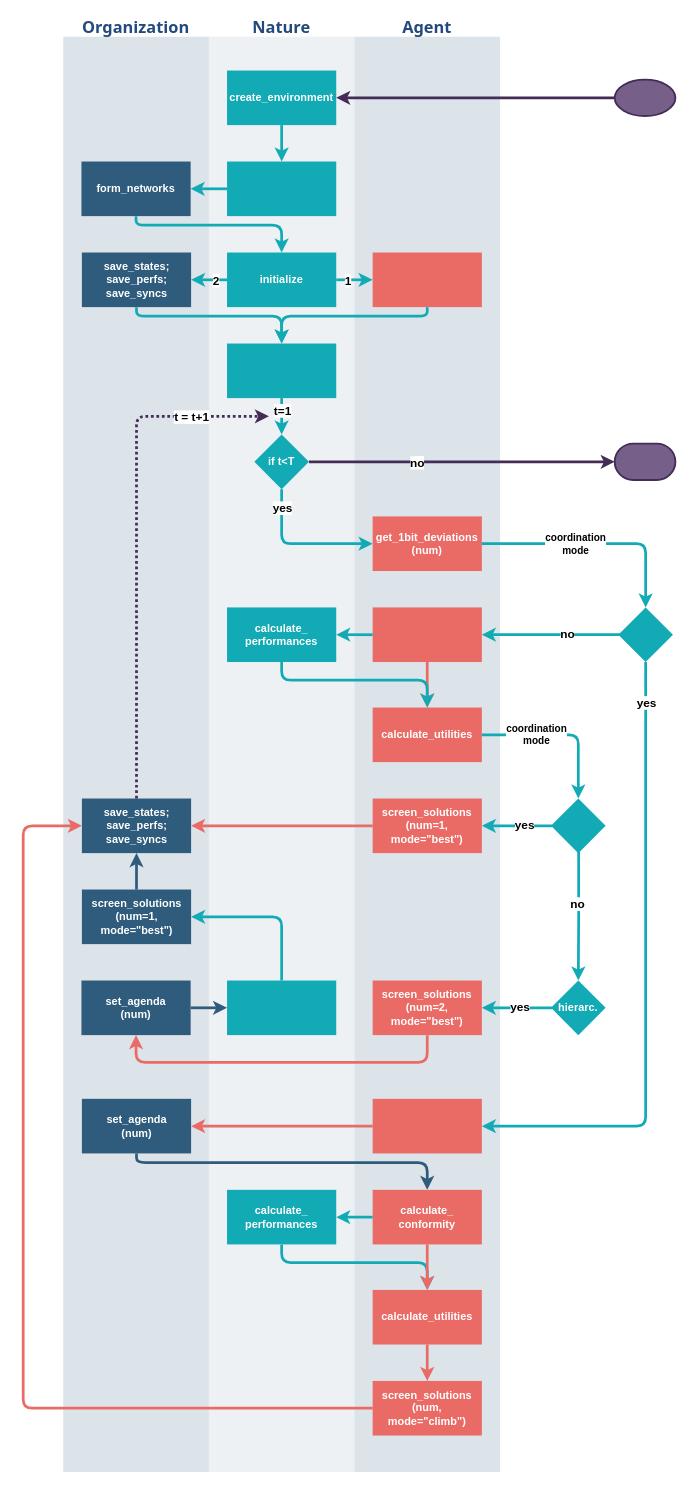
The diagram is 693 pixels wide and 1487 high, and some of its shapes have lost their labels. Here are the shapes that lost their labels. From the top down, the centre of each, then its label:
[644,97]: start
[281,188]: create_players
[426,279]: set_state; save_perf
[281,370]: play
[644,461]: end
[426,634]: talk_with_peers; calculate_ conformity
[645,634]: lateral
[578,825]: decentr.
[281,1007]: calculate_ performances and synchrony
[426,1125]: screen_solutions (num=2, mode="random")
